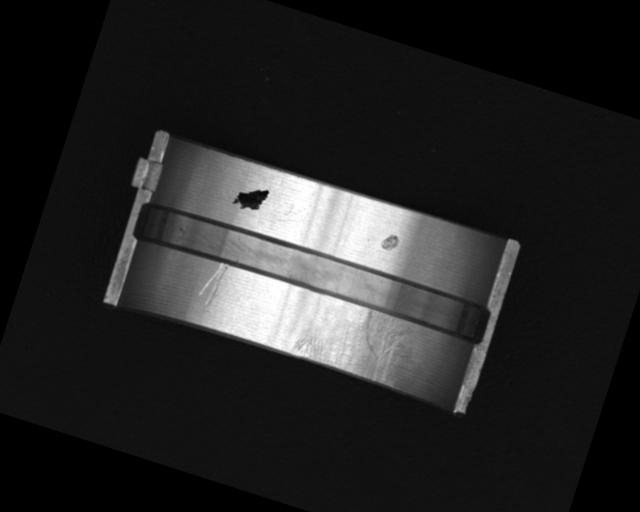blot: (231, 181, 271, 216)
bruise: (379, 230, 402, 253)
gap: (129, 194, 494, 347)
nick: (196, 259, 228, 310)
scratch: (291, 290, 425, 392)
